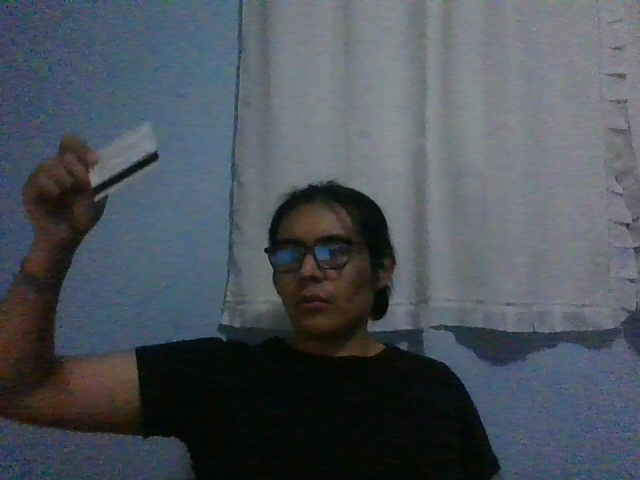tarjeta: (87, 121, 161, 204)
